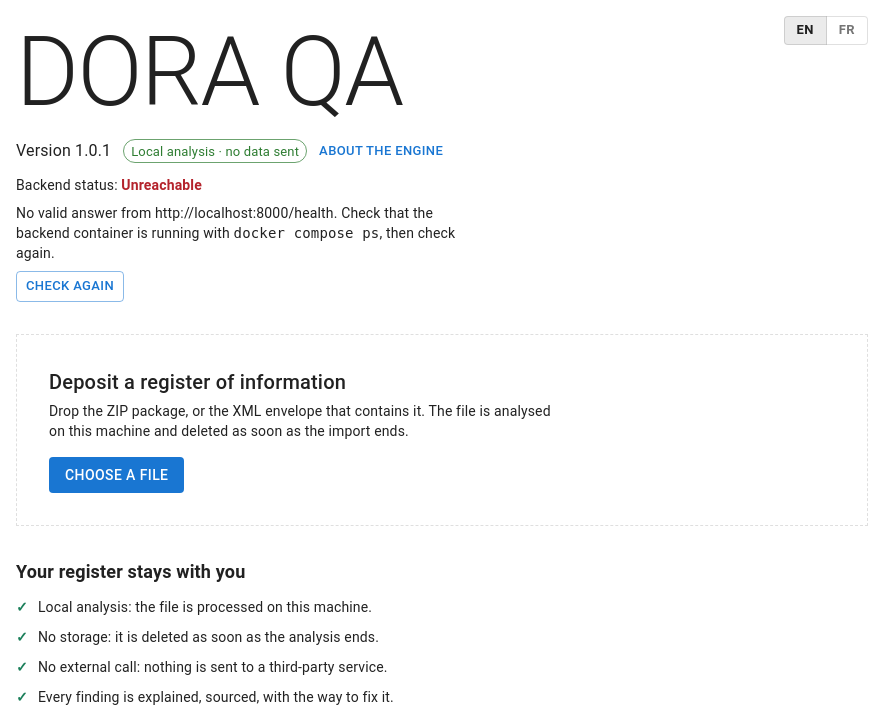
Test: App › explains what to do when the backend does not answer, and can check again
Expected: the text "Unreachable" is shown, [121,177,202,193]
What coordinates should you click on to do the following:
click the button "Check again"
I would click on:
 (70, 286)
Its box is [16,271,124,302].
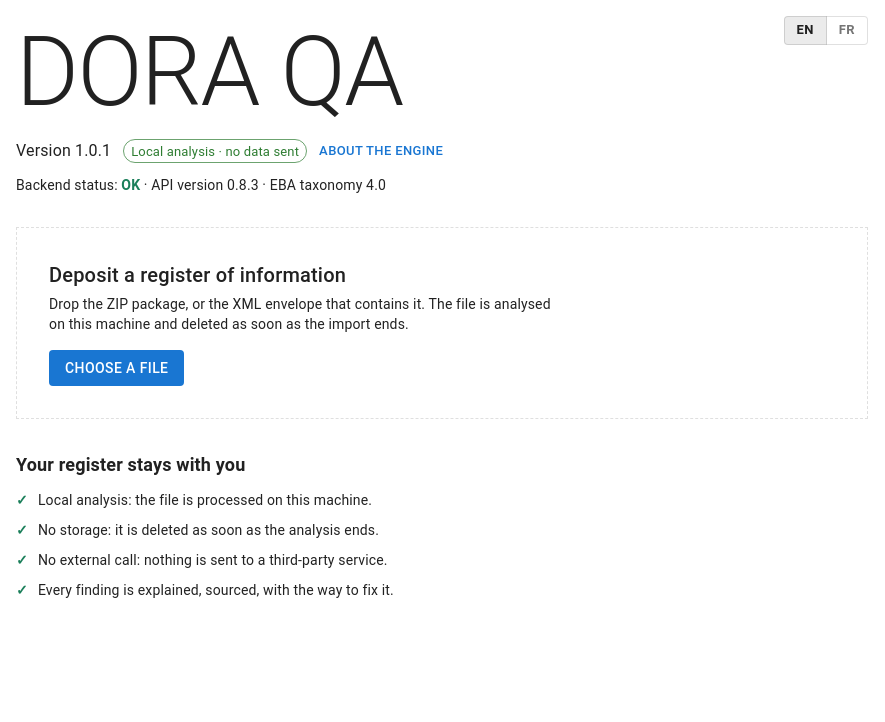
Now the text "OK" is shown, box [121,177,140,193]
